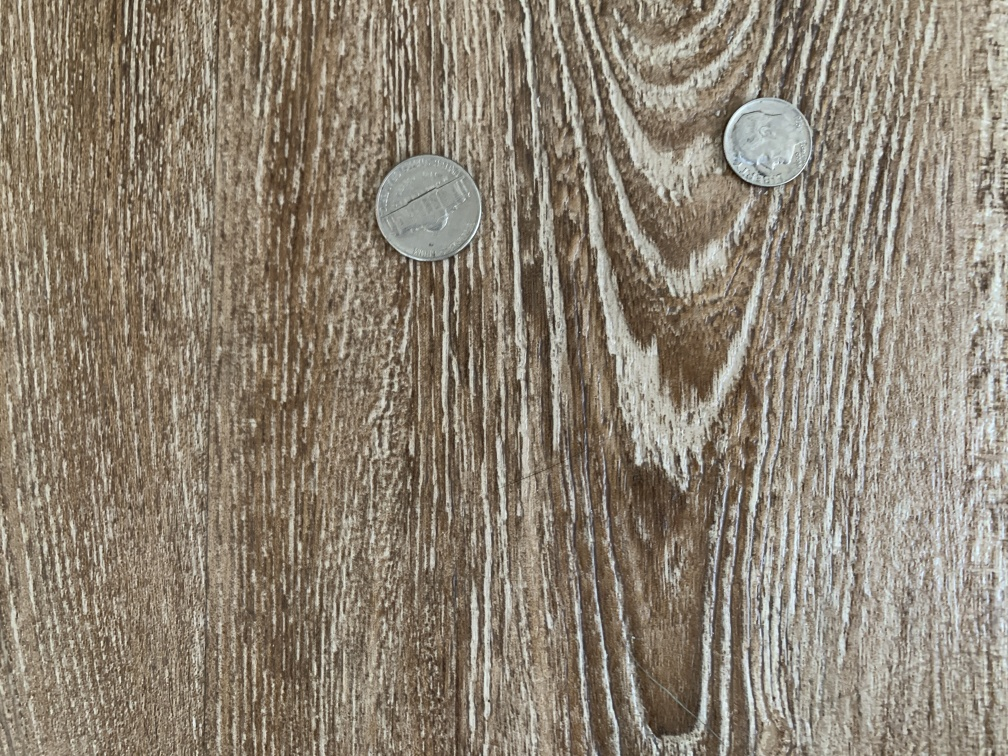dime: (716, 94, 817, 191)
nickel: (371, 148, 488, 267)
